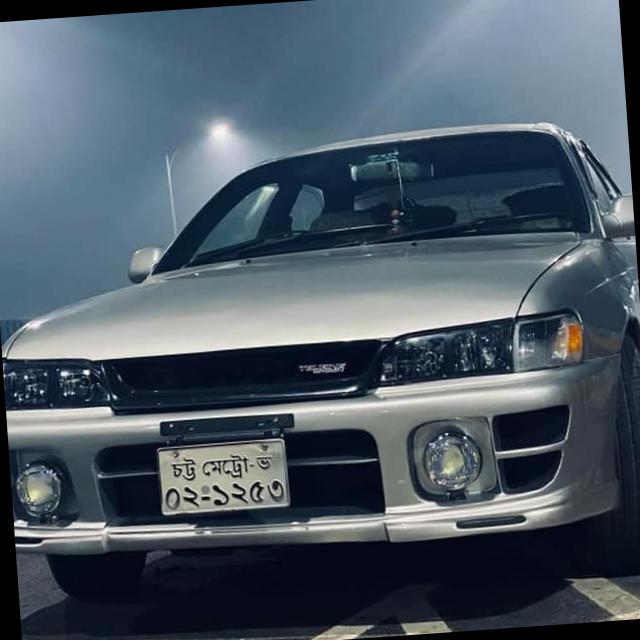Number-Plate: (156, 434, 294, 522)
